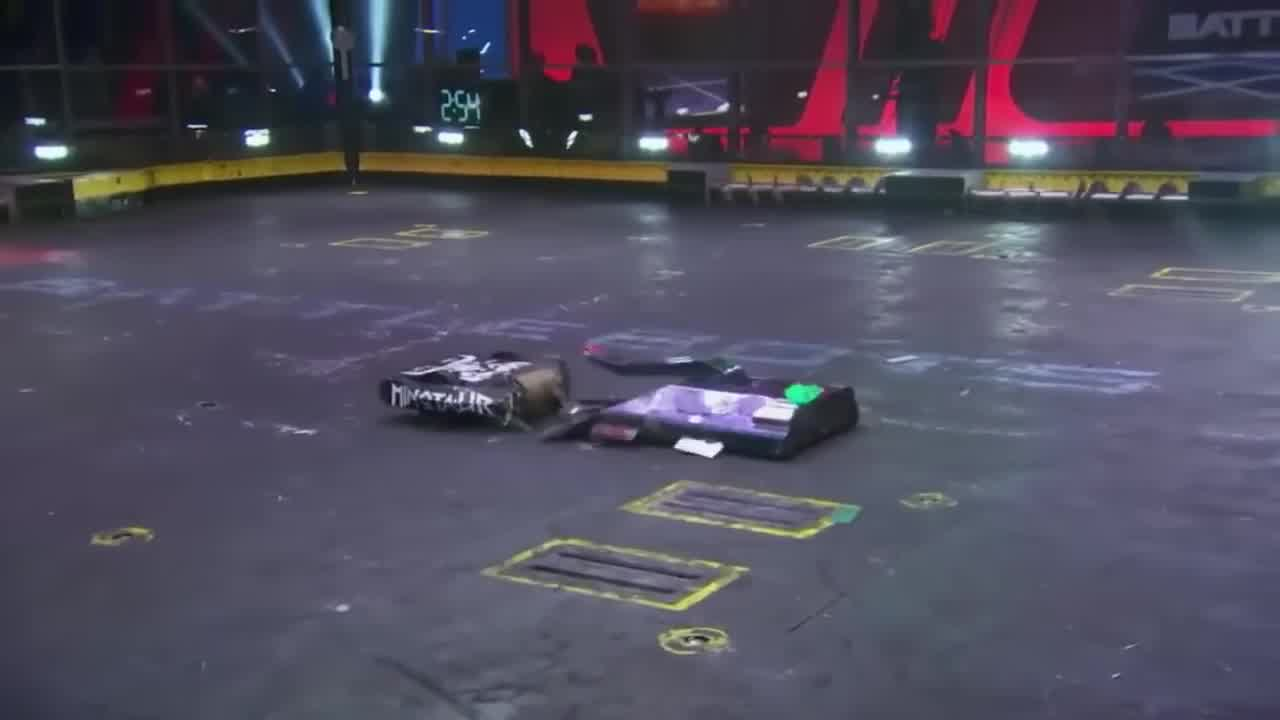combatbot: (579, 367, 866, 461), (381, 351, 571, 435)
